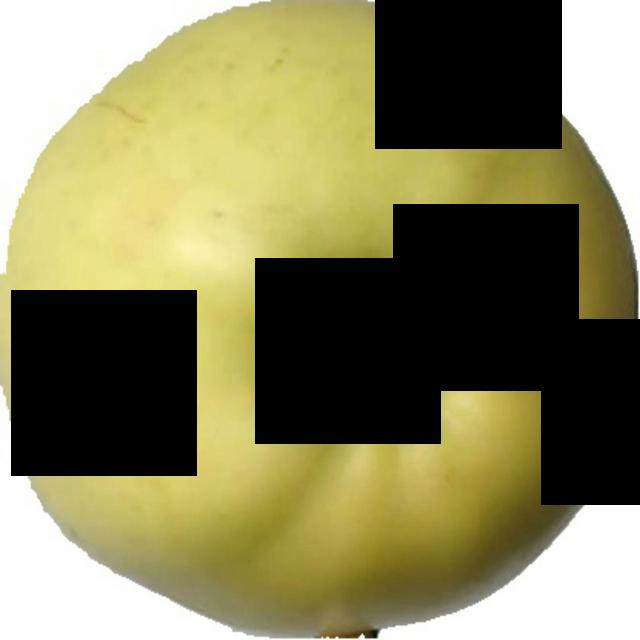apple: (14, 0, 638, 638)
